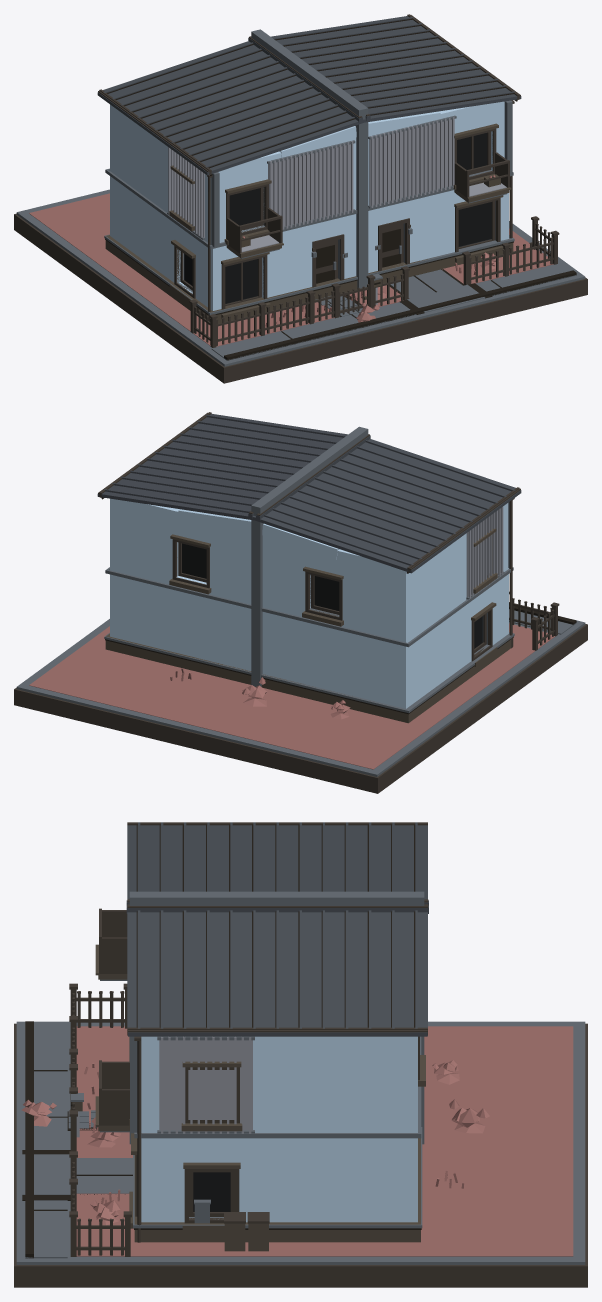
File: townhouse-modern-render.glb
3 renders of one model, top to bottom at view 1: azimuth 30°, elevation 25°; view 2: azimuth 150°, elevation 25°; view 3: azimuth 270°, elevation 25°, orthographic. The views are drawn at different scales.
Visible parts, largest first — view 1: body-8, body-4, body-3, body-1, body-6, body-2, body-7, body-0, dd-opening:gwin-1:4, dd-opening:gwin-0:5, dd-opening:uwin-0:4, dd-opening:uwin-1:5; view 2: body-3, body-8, body-7, body-4, body-1, body-0, body-2, body-6, body-5; view 3: body-8, body-7, body-3, body-1, body-4, body-2, body-0, body-6, body-5.
Part boxes in pixels (bbox=[...]): body-8: bbox=[97, 16, 521, 175]; body-4: bbox=[14, 14, 587, 383]; body-3: bbox=[110, 101, 508, 310]; body-1: bbox=[16, 29, 585, 366]; body-6: bbox=[168, 117, 506, 304]; body-2: bbox=[105, 18, 576, 360]; body-7: bbox=[29, 175, 553, 346]; body-0: bbox=[105, 123, 513, 323]; dd-opening:gwin-1:4: bbox=[458, 202, 491, 246]; dd-opening:gwin-0:5: bbox=[225, 259, 257, 303]; dd-opening:uwin-0:4: bbox=[229, 188, 259, 225]; dd-opening:uwin-1:5: bbox=[457, 133, 487, 169]; body-3: bbox=[110, 498, 508, 708]; body-8: bbox=[97, 413, 521, 573]; body-7: bbox=[29, 623, 555, 769]; body-4: bbox=[14, 412, 587, 793]; body-1: bbox=[16, 426, 585, 776]; body-0: bbox=[105, 528, 513, 723]; body-2: bbox=[101, 497, 576, 714]; body-6: bbox=[466, 506, 503, 598]; body-5: bbox=[182, 543, 483, 648]; body-8: bbox=[126, 822, 428, 1036]; body-7: bbox=[21, 1026, 573, 1256]; body-3: bbox=[141, 1036, 417, 1222]; body-1: bbox=[16, 891, 585, 1264]; body-4: bbox=[14, 822, 587, 1287]; body-2: bbox=[22, 824, 421, 1258]; body-0: bbox=[70, 944, 425, 1251]; body-6: bbox=[76, 1036, 252, 1137]; body-5: bbox=[193, 1172, 230, 1211].
Bounding box in the file's own units: 15 × 7.84 × 15.
